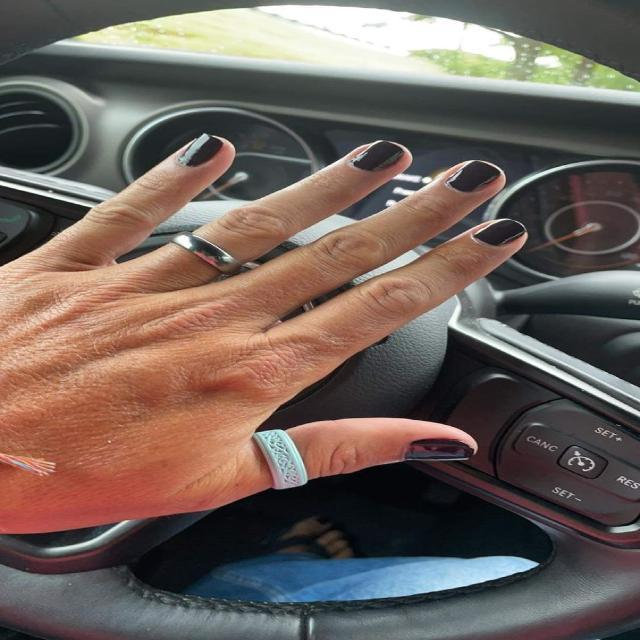Fingernail: (448, 162, 499, 193), (353, 141, 404, 171), (405, 439, 472, 461), (178, 134, 221, 166), (474, 220, 524, 246)
